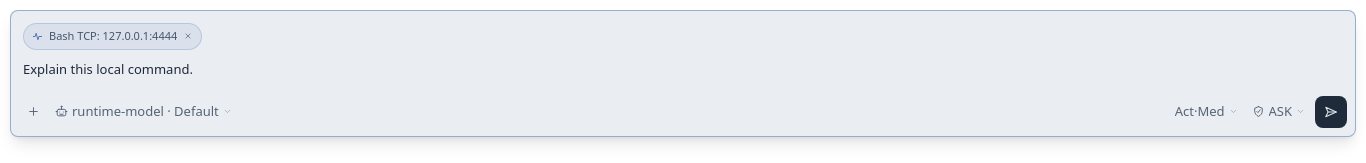
Test: ChatInput composer › renders a removable local Shell command context chip
Expected: the text "Bash TCP: 127.0.0.1:4444" is shown, x1=49 y1=28 x2=177 y2=44
Click the button named "Remove Bash TCP: 127.0.0.1:4444".
click(188, 36)  # box x1=183 y1=31 x2=193 y2=41
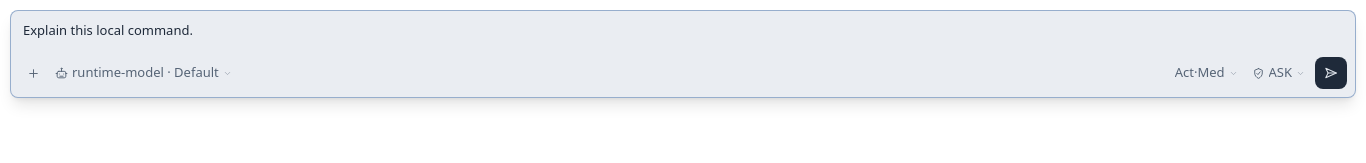
Expected: the text "Bash TCP: 127.0.0.1:4444" is gone
